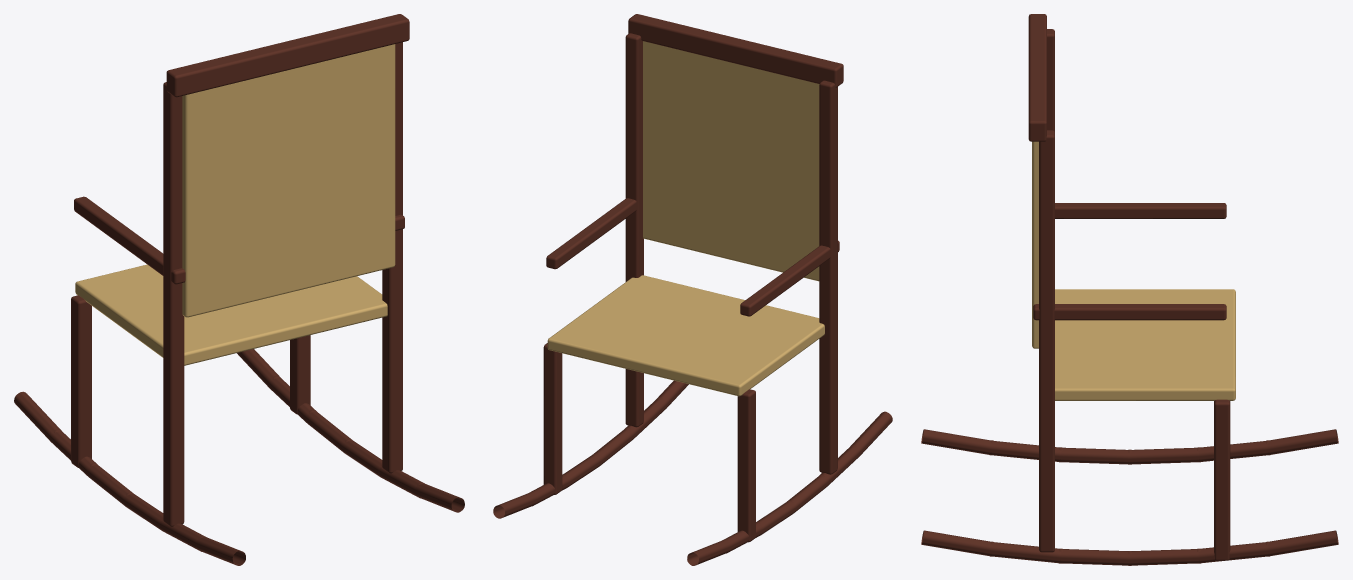
The model's file is SM_PRP_CadeiraBalanco.fbx.
The picture shows the model from 3 angles, left to right: view 1: azimuth 30°, elevation 25°; view 2: azimuth 150°, elevation 25°; view 3: azimuth 270°, elevation 25°; orthographic projection. The views are drawn at different scales.
Visible parts, largest first — view 1: SM_PRP_CadeiraBalanco; view 2: SM_PRP_CadeiraBalanco; view 3: SM_PRP_CadeiraBalanco.
Part boxes in pixels (x1=…): SM_PRP_CadeiraBalanco: x1=14, y1=14, x2=464, y2=565; SM_PRP_CadeiraBalanco: x1=493, y1=14, x2=892, y2=565; SM_PRP_CadeiraBalanco: x1=921, y1=14, x2=1338, y2=565.
Size of the model in its own units: 0.56 by 1.07 by 0.9059.
